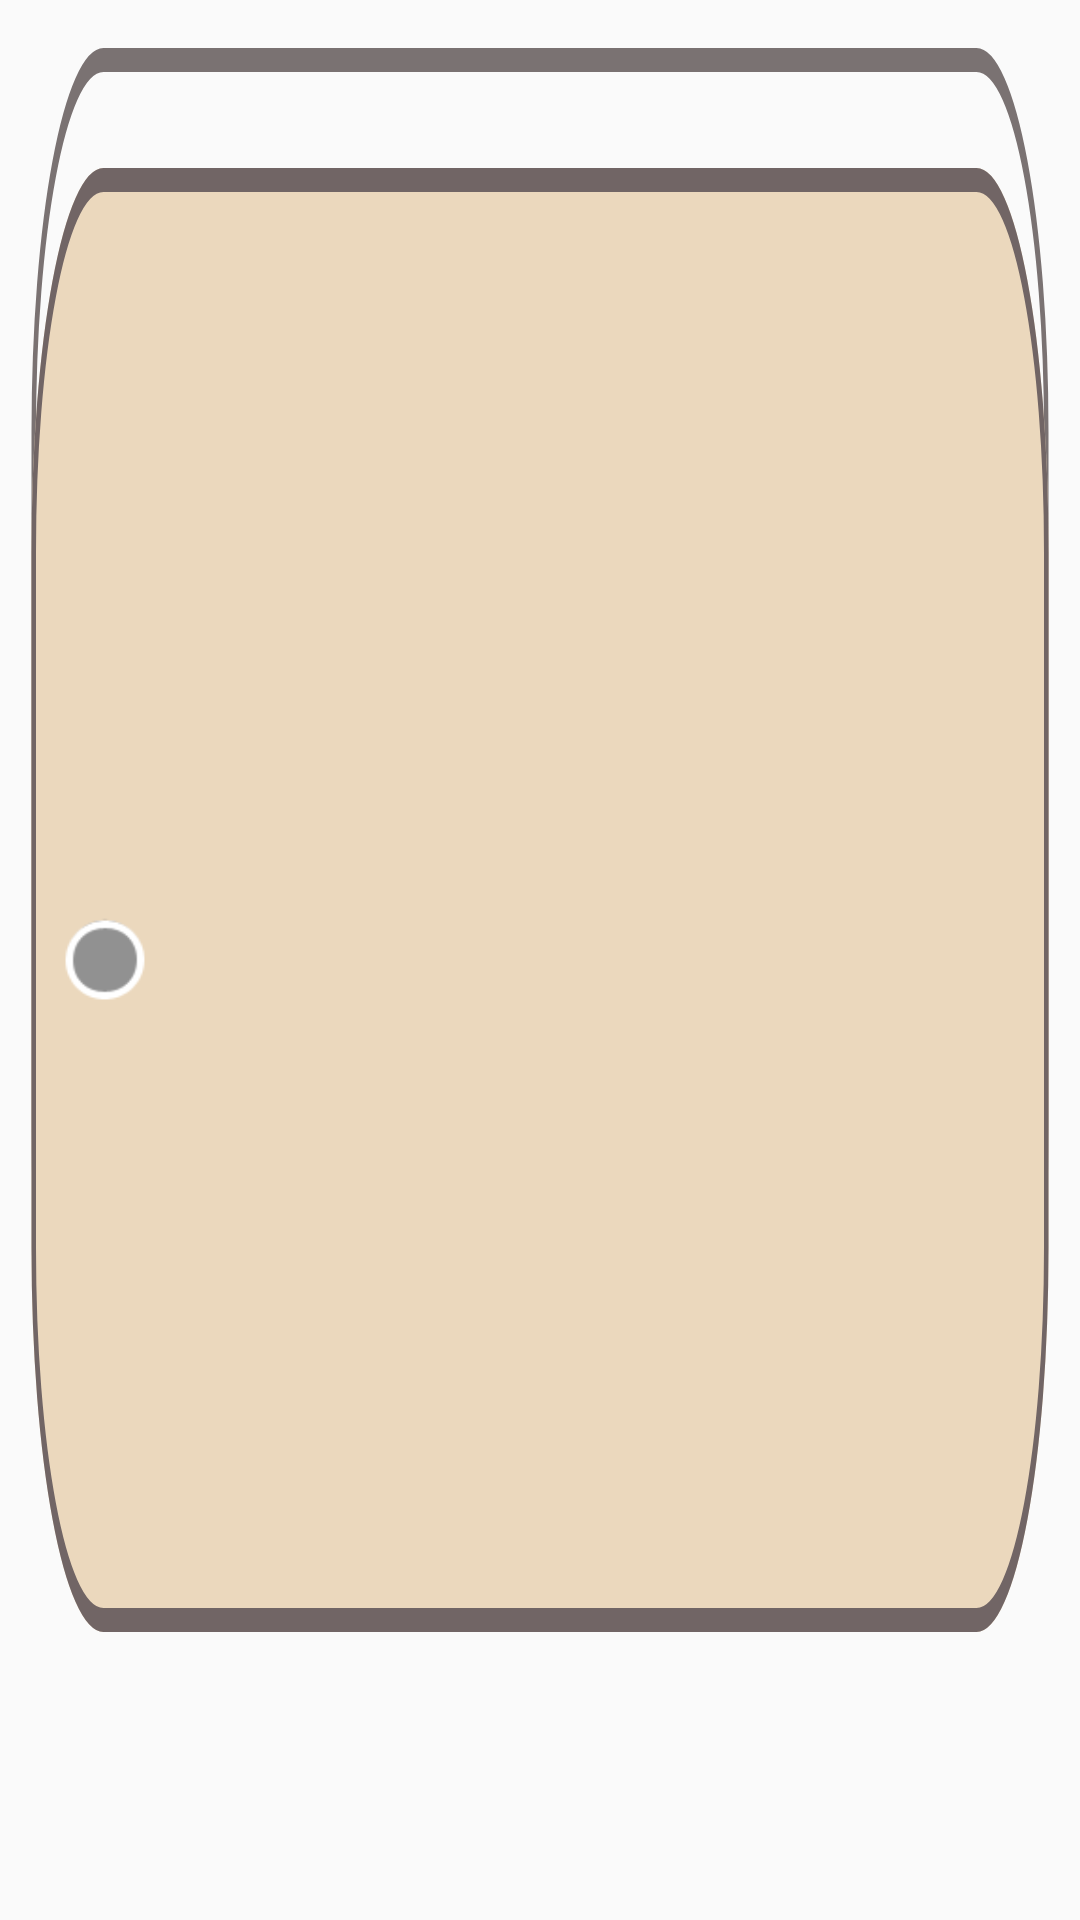

Where to tap for icons on this 1080px x 1920px app screen, as [x,y]:
Breakpoint: [105,960]
